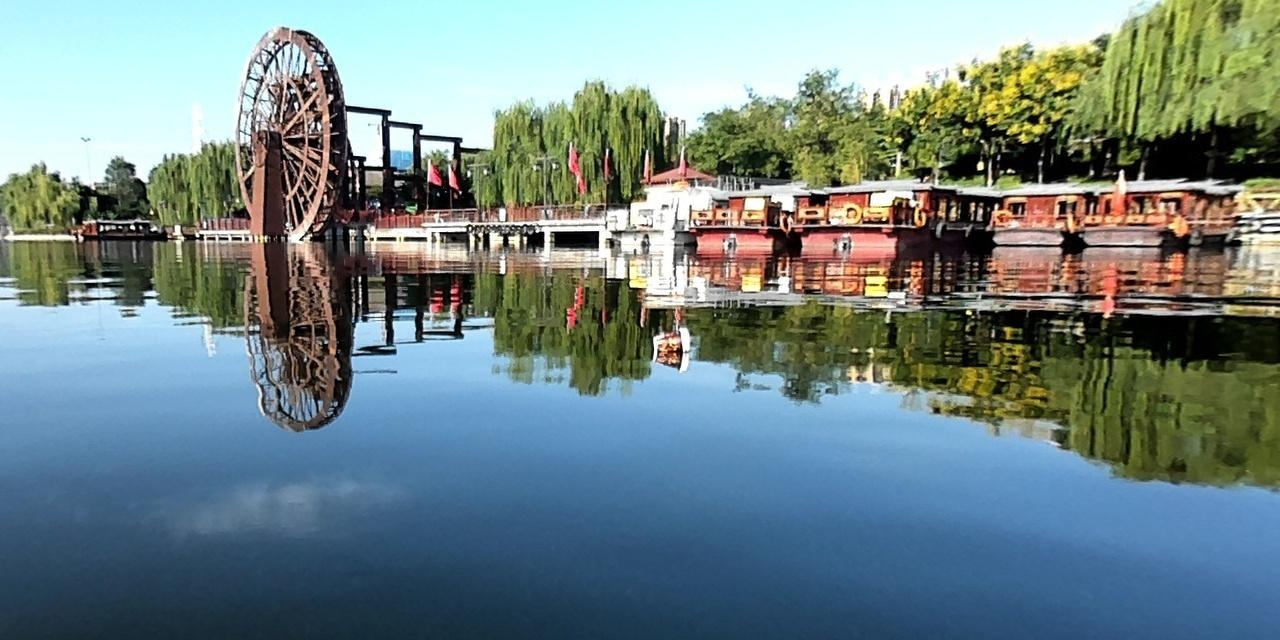bottle: (648, 324, 693, 355)
